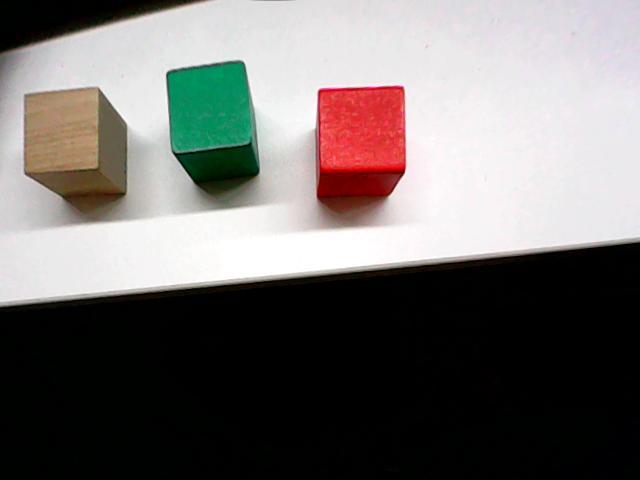green_box: (152, 56, 269, 197)
raw_box: (16, 78, 133, 202)
red_box: (299, 79, 422, 204)
